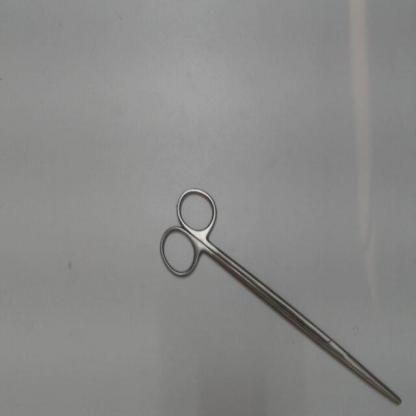9 Metzenbaum Scissors: (154, 183, 405, 406)
